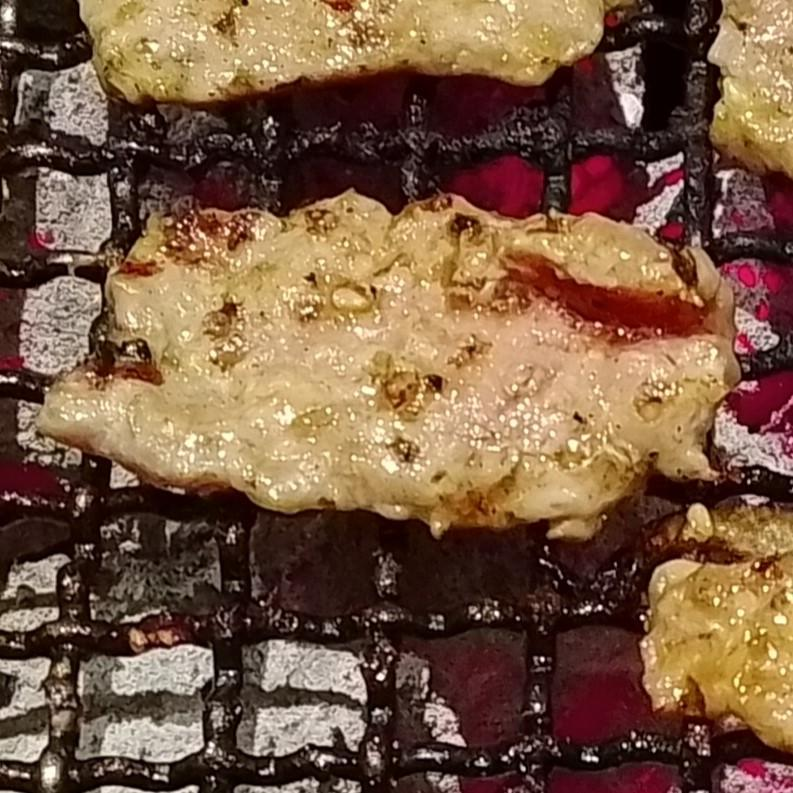Overcooked: (635, 498, 792, 769)
Well-Cooked: (34, 192, 743, 536), (75, 0, 637, 109), (713, 0, 792, 183)
